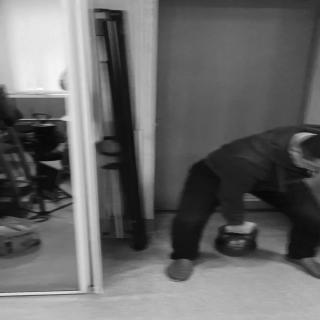kettlebell: (216, 225, 261, 259)
